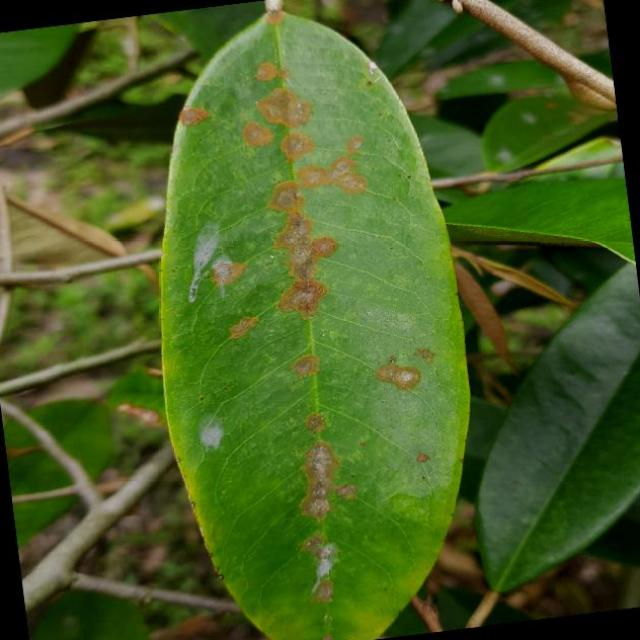Algal Leaf Spot: (113, 0, 516, 640)
